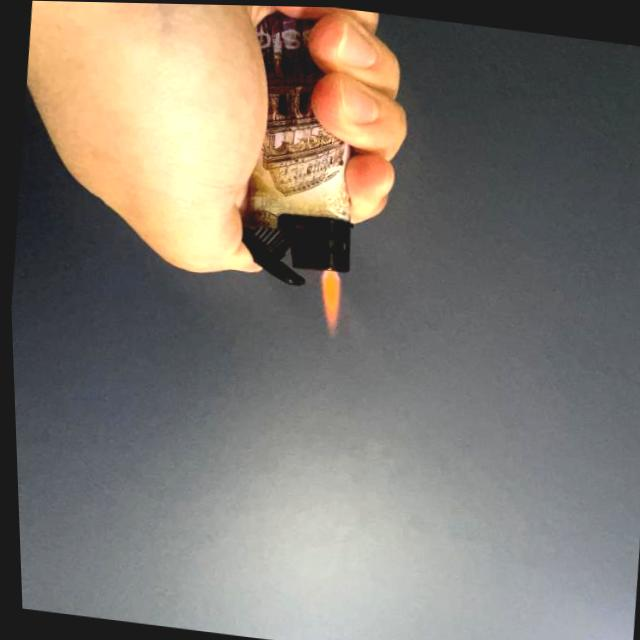Fire: (311, 265, 348, 336)
